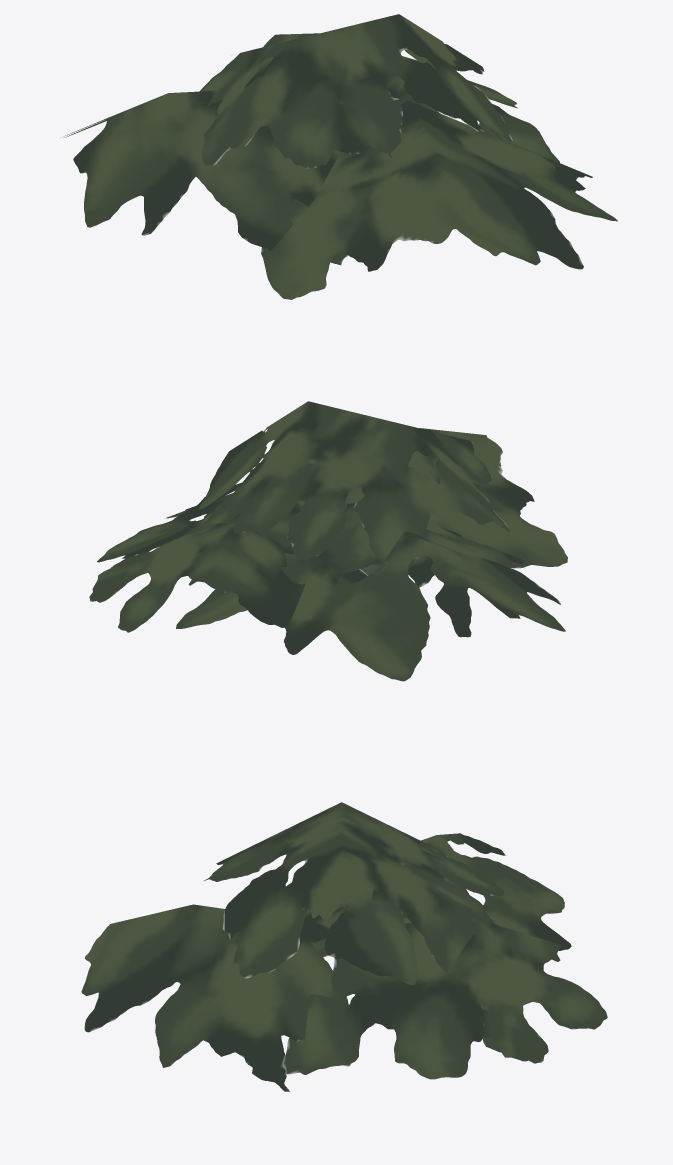
The model's file is bush-05.fbx.
The picture shows the model from 3 angles, top to bottom: view 1: azimuth 30°, elevation 25°; view 2: azimuth 150°, elevation 25°; view 3: azimuth 270°, elevation 25°; orthographic projection. The views are drawn at different scales.
Visible parts, largest first — view 1: bush_05; view 2: bush_05; view 3: bush_05.
Boxes of the visible parts, x1=… form: bush_05: x1=63, y1=14, x2=617, y2=299; bush_05: x1=89, y1=401, x2=567, y2=681; bush_05: x1=81, y1=802, x2=607, y2=1091.
Bounding box in the file's own units: 160 × 61.26 × 171.
